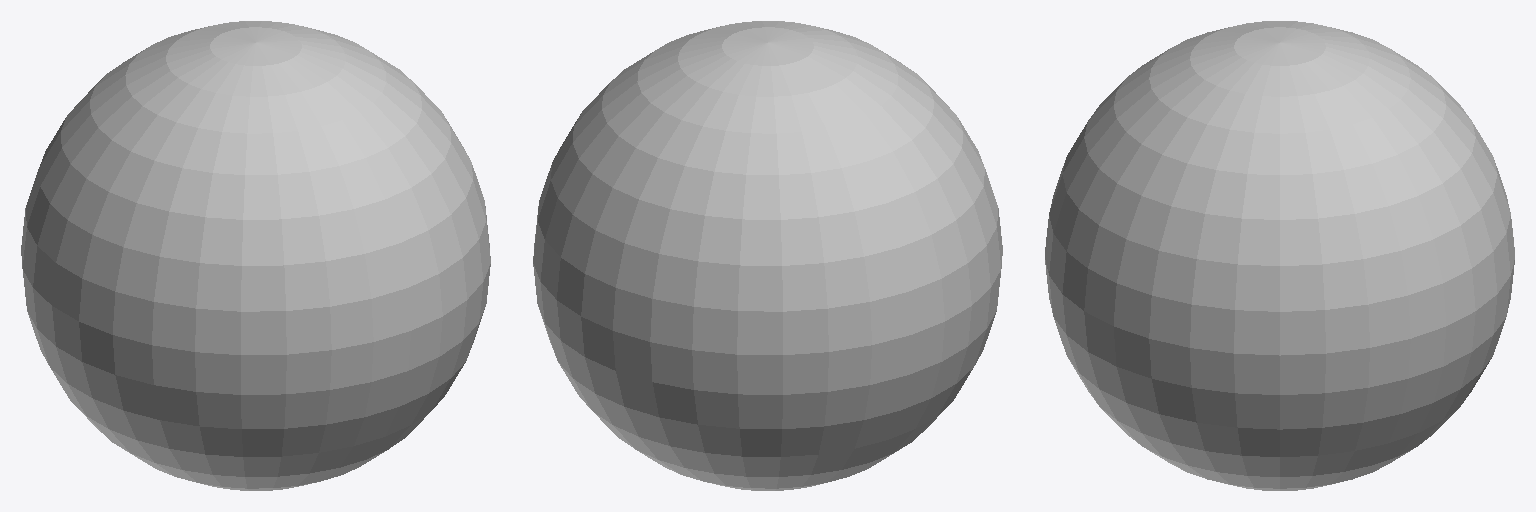
The model's file is sphere_bulb3.obj.
3 views of the same model, side by side, from view 1: azimuth 30°, elevation 25°; view 2: azimuth 150°, elevation 25°; view 3: azimuth 270°, elevation 25° (orthographic).
Visible parts, largest first — view 1: bulb.002_Sphere.002; view 2: bulb.002_Sphere.002; view 3: bulb.002_Sphere.002.
Boxes of the visible parts, box(x1,y1,x2,y2) form: bulb.002_Sphere.002: box(21, 21, 490, 490); bulb.002_Sphere.002: box(533, 21, 1002, 490); bulb.002_Sphere.002: box(1045, 21, 1514, 490).
Bounding box in the file's own units: 0.9409 × 0.9409 × 0.9409.